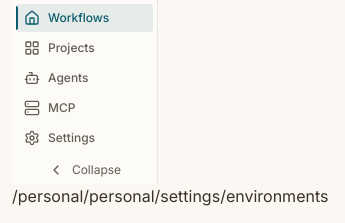
Test: AppNavBar settings navigation › leaves settings using the route workspace slug while context is still loading
Click the button "Workflows". click: (84, 18)
box: top-left (16, 4), bottom-right (153, 32)
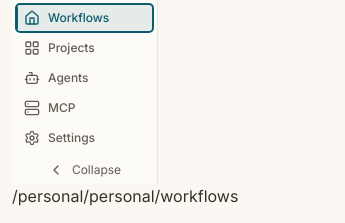
expect the text with test id "location-probe" reads "/personal/personal/workflows": met, box top-left (12, 186), bottom-right (238, 206)
